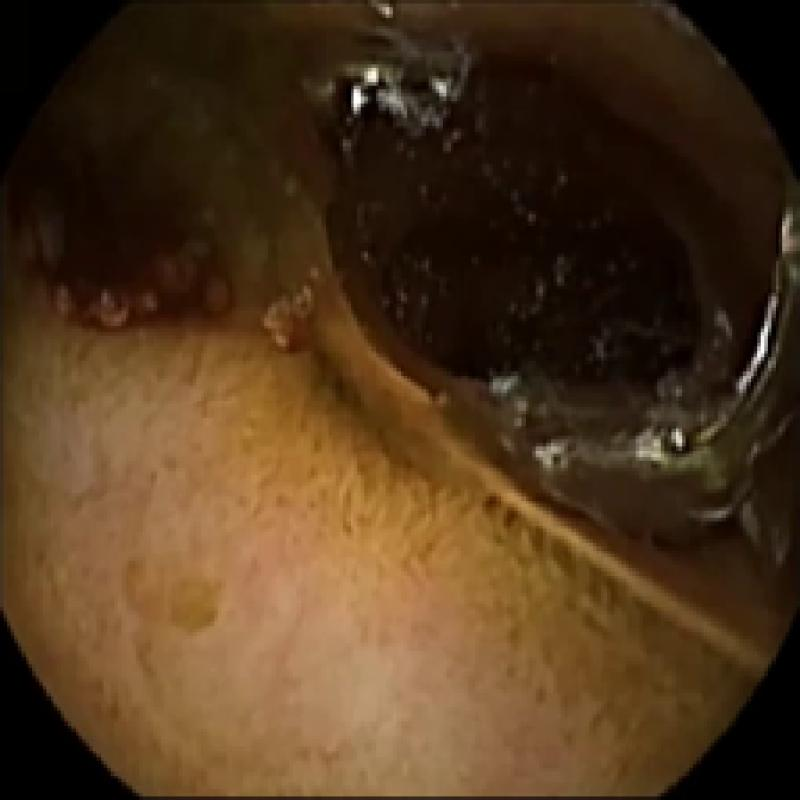bleeding: (18, 139, 232, 336)
